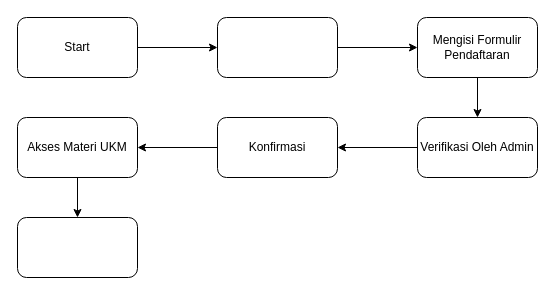
Some shapes in this 555 by 295 pixel diagram are drawn without their labels. The shapes that lost their labels are listed below. From the top down, each one's centre as x and y in pixels, then its label:
At [277,47]: "Mahasiswa mengunjungi website".
At [77,247]: "Selesai".
